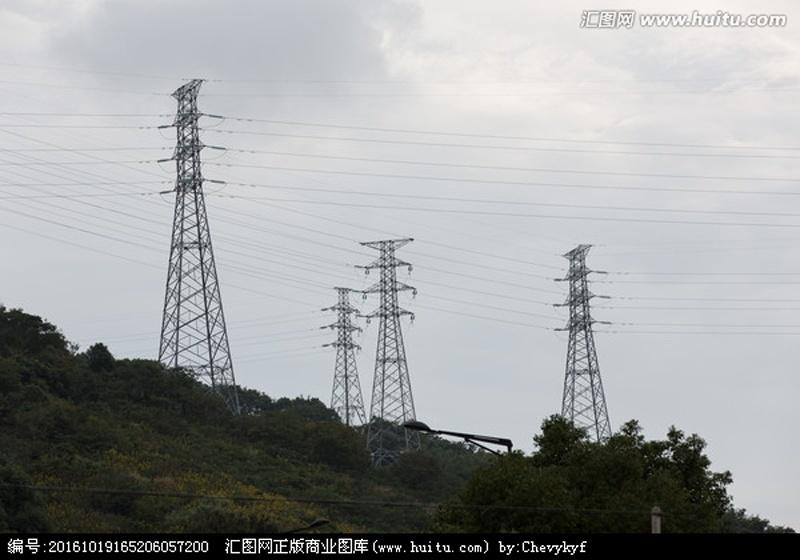power_tower: (156, 73, 239, 377), (550, 249, 626, 448), (357, 233, 424, 433), (313, 281, 366, 426)
